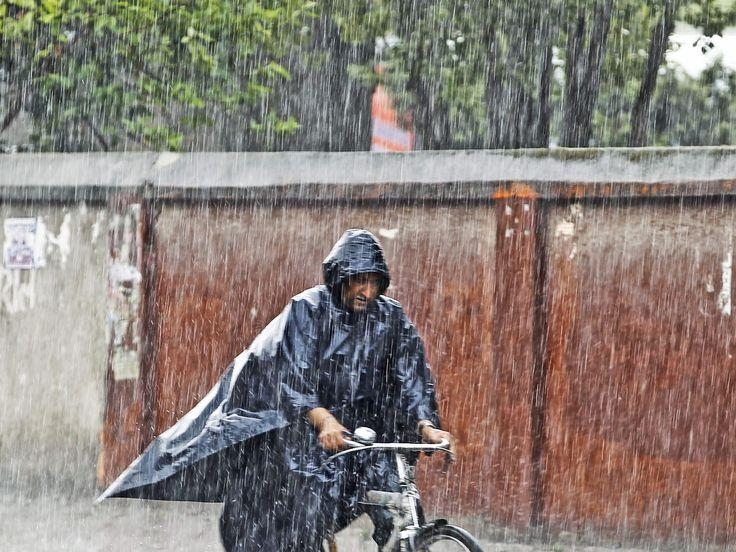bicycle: (230, 433, 489, 552)
